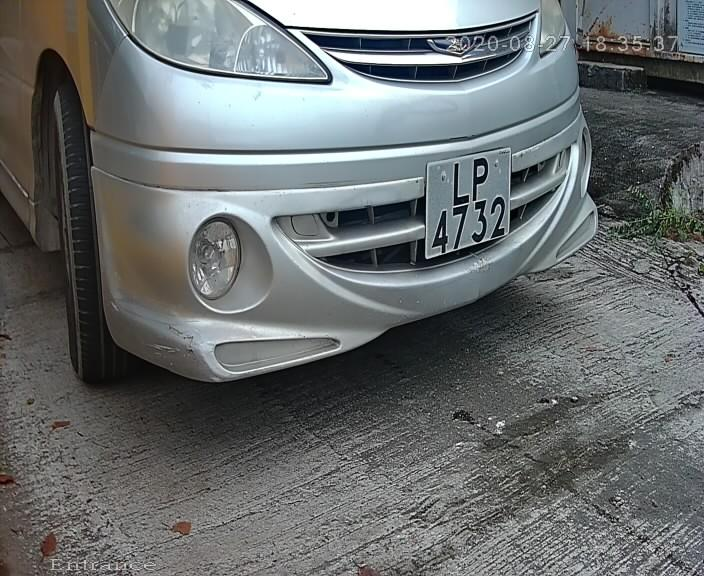License Plate: (415, 134, 529, 271)
